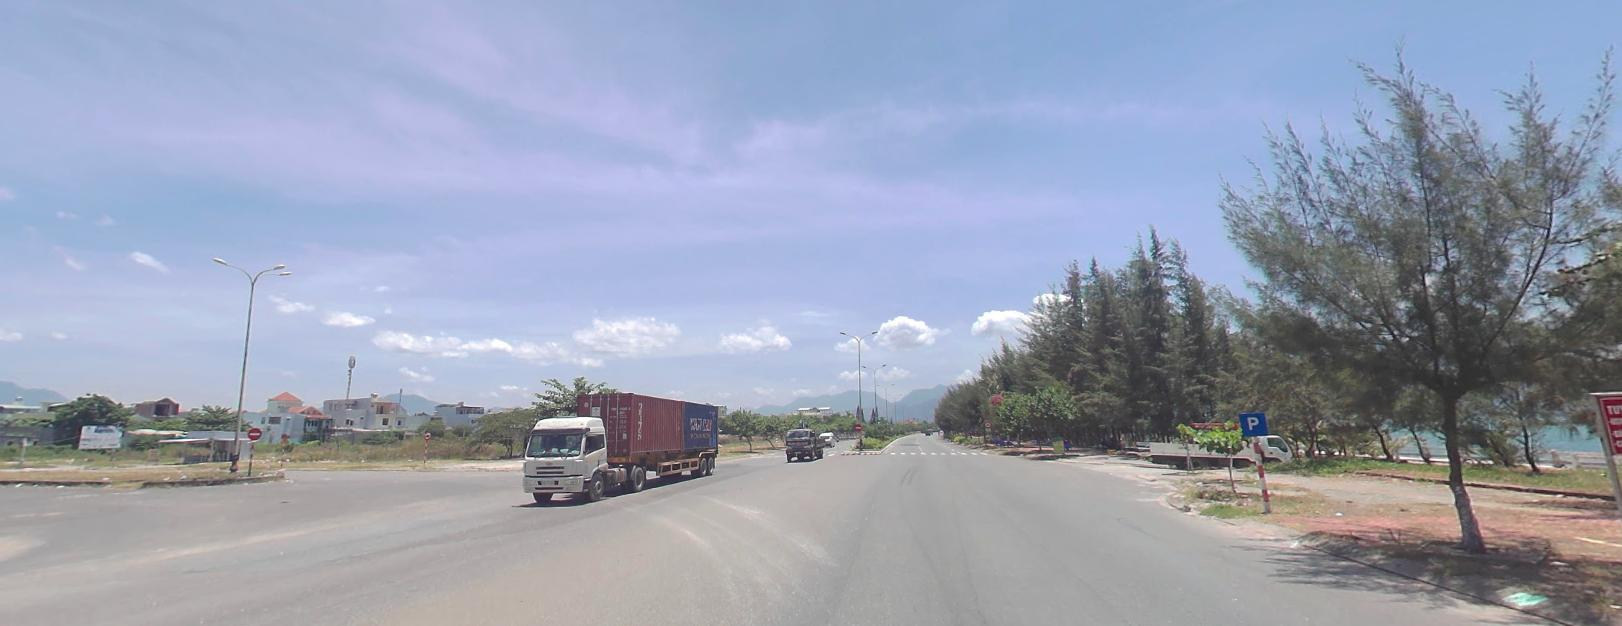Cam con lai: (983, 419, 991, 426)
Cam nguoc chieu: (247, 426, 260, 438), (853, 422, 861, 430)
Nguy hiem: (280, 434, 289, 441)
